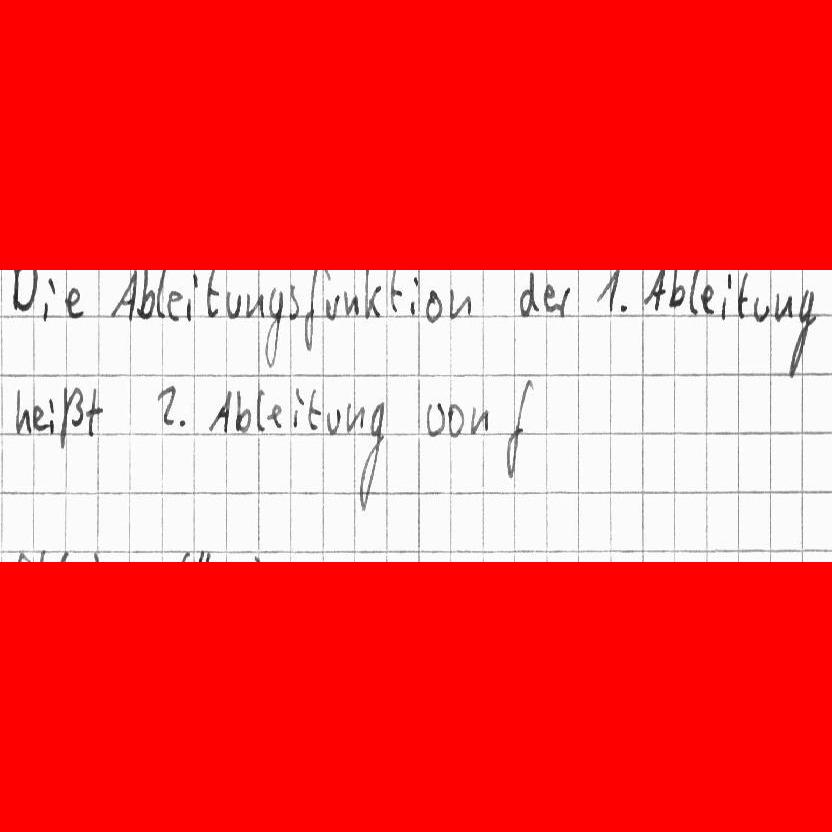Char: (355, 398, 384, 511), (787, 293, 820, 380), (504, 382, 532, 478), (57, 384, 83, 449), (264, 287, 284, 367), (301, 268, 320, 348), (108, 272, 137, 321), (138, 268, 163, 321), (206, 388, 231, 436), (11, 270, 36, 315), (154, 381, 177, 427), (642, 267, 666, 310), (518, 271, 539, 316), (13, 385, 31, 436), (595, 270, 617, 311), (233, 386, 252, 433), (448, 284, 472, 319), (86, 382, 101, 437), (424, 400, 444, 439), (177, 547, 219, 565), (388, 269, 403, 316), (205, 273, 221, 317), (367, 280, 385, 319), (668, 272, 686, 311), (63, 284, 83, 319), (41, 275, 56, 320), (468, 403, 487, 437), (307, 388, 322, 431), (736, 273, 750, 318), (286, 277, 300, 322), (774, 290, 793, 323), (424, 289, 442, 322), (752, 295, 773, 323), (292, 387, 306, 429), (688, 268, 700, 316), (447, 403, 464, 436), (699, 282, 716, 315), (226, 290, 244, 321), (557, 283, 572, 319), (720, 272, 731, 320), (246, 289, 263, 320), (256, 389, 268, 431), (187, 273, 198, 318), (409, 273, 420, 317), (542, 281, 556, 314), (326, 407, 341, 435), (33, 403, 47, 433), (167, 291, 182, 319), (326, 292, 341, 319), (268, 405, 284, 429), (46, 393, 55, 435), (13, 548, 41, 561), (346, 293, 360, 317), (173, 414, 190, 432), (617, 300, 633, 316)
